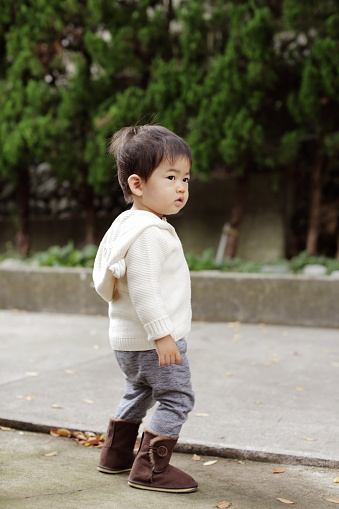em pe: (82, 139, 213, 509)
